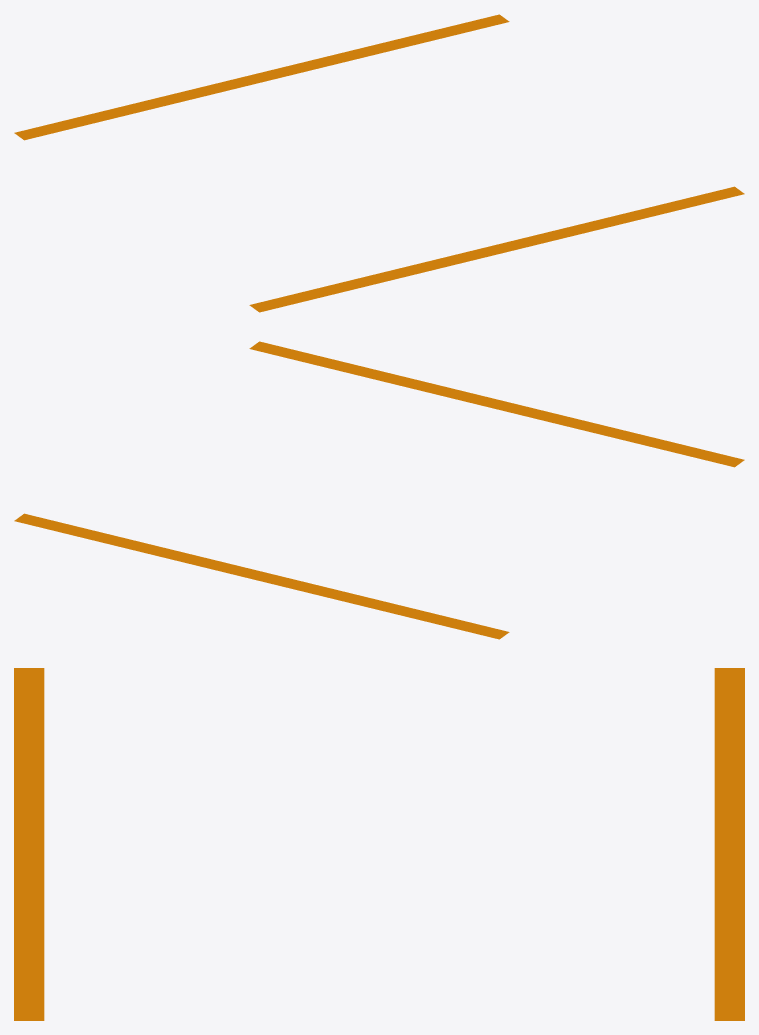
File: Elec_OrangeLine.fbx
3 renders of one model, top to bottom at view 1: azimuth 30°, elevation 25°; view 2: azimuth 150°, elevation 25°; view 3: azimuth 270°, elevation 25°, orthographic. The views are drawn at different scales.
Parts seen in each view (by area): view 1: TileOrangeLine; view 2: TileOrangeLine; view 3: TileOrangeLine.
Boxes of the visible parts, left/top/right/bottom form: TileOrangeLine: left=14, top=14, right=744, bottom=312; TileOrangeLine: left=14, top=341, right=744, bottom=639; TileOrangeLine: left=14, top=668, right=744, bottom=1020.
Size of the model in its own units: 4 by 0 by 3.5.
